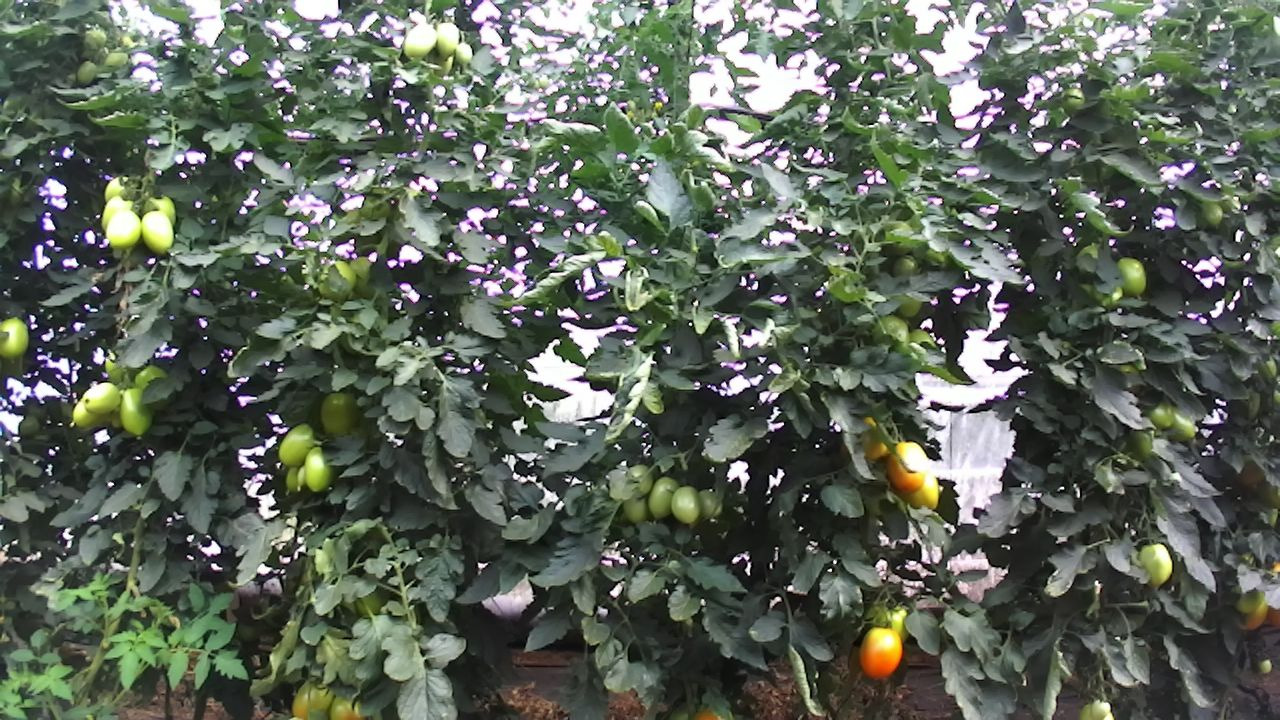tomato: (883, 437, 930, 496), (857, 624, 905, 681), (117, 384, 155, 438), (277, 420, 315, 468), (318, 390, 358, 435), (103, 207, 144, 250), (1135, 542, 1173, 587), (139, 209, 174, 256), (646, 475, 681, 521), (303, 444, 335, 493), (81, 378, 122, 415), (1115, 254, 1148, 299), (401, 20, 438, 60), (668, 483, 703, 525), (0, 315, 30, 362), (435, 20, 462, 63), (452, 39, 473, 65)
